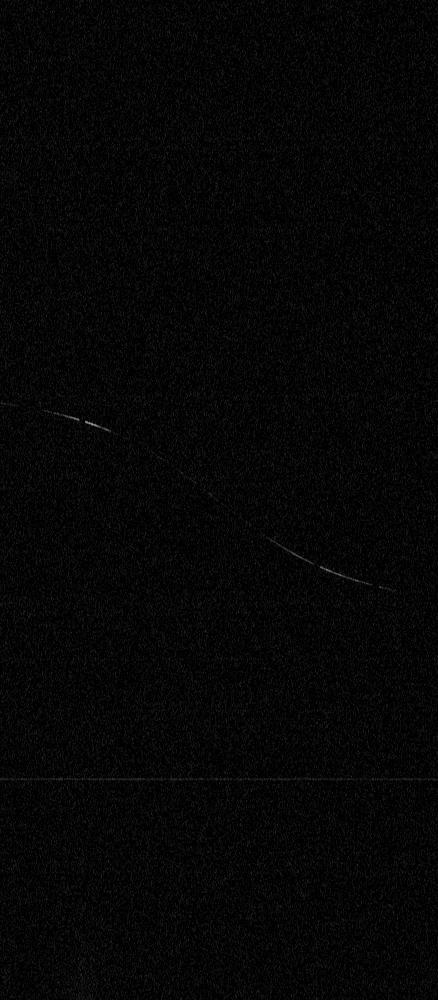signal: (0, 0, 437, 999)
